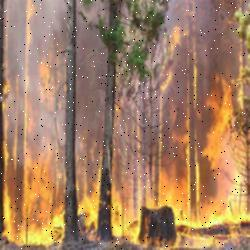fire: (160, 23, 250, 237), (1, 132, 142, 250)
